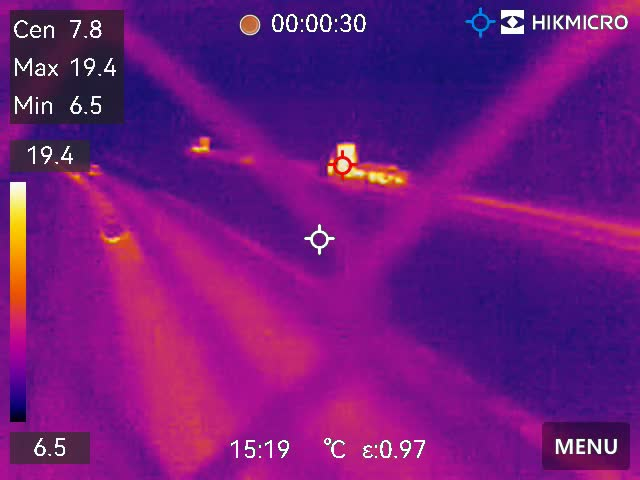heavyTruck: (318, 142, 411, 190)
